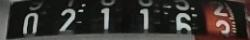digits: (97, 5, 120, 33), (135, 7, 156, 37), (172, 13, 193, 40), (58, 8, 76, 35), (22, 12, 39, 36), (207, 1, 229, 18)
